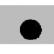correct: (16, 18, 45, 41)
